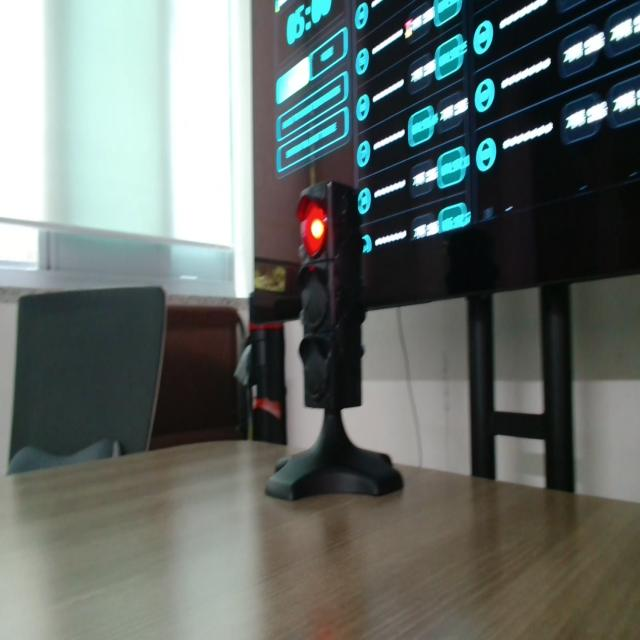red_light: (299, 200, 326, 257)
